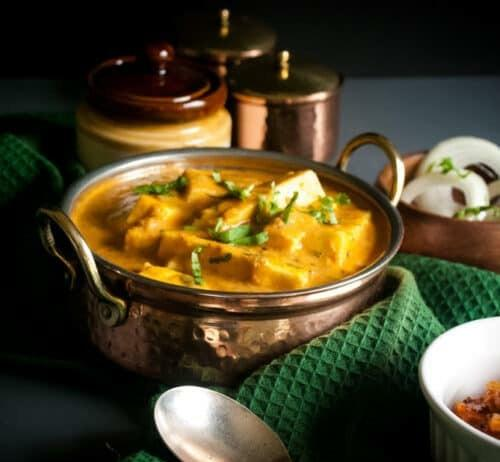ShahiPaneer: (73, 160, 390, 291)
